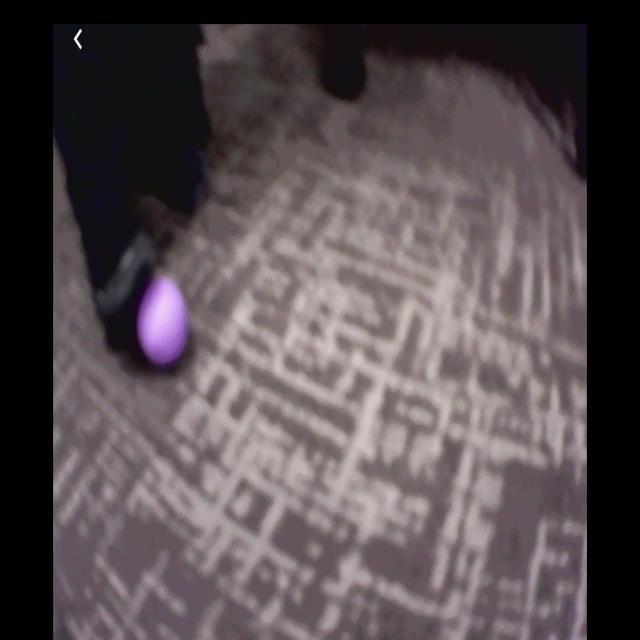ball: (136, 274, 190, 370)
